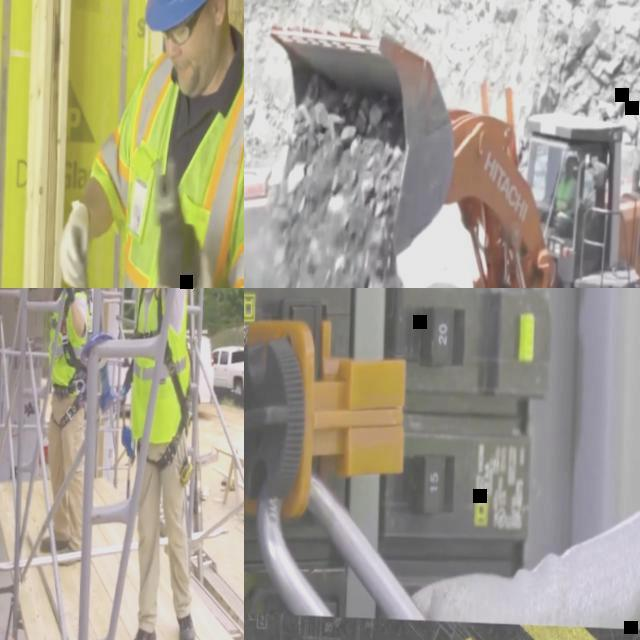helmet: (144, 0, 244, 33), (566, 155, 576, 166)
machinery: (252, 9, 640, 288), (244, 151, 465, 288)
no_mask: (178, 54, 216, 96), (566, 170, 574, 179)
person: (54, 0, 244, 288), (68, 288, 218, 640), (420, 493, 640, 629), (29, 288, 99, 568), (554, 156, 580, 233)
vehicle: (115, 327, 218, 422), (212, 344, 244, 398)
vest: (84, 43, 244, 288), (133, 288, 193, 444), (49, 288, 93, 394), (557, 177, 576, 214)
